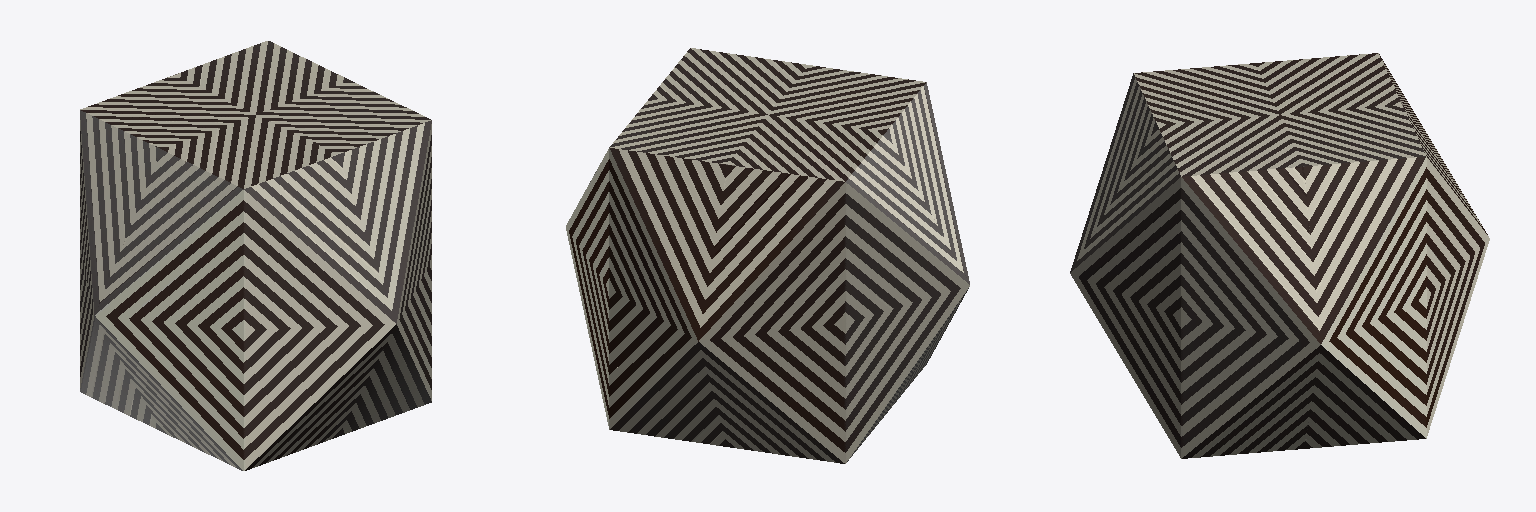
3 renders of one model, left to right at view 1: azimuth 30°, elevation 25°; view 2: azimuth 150°, elevation 25°; view 3: azimuth 270°, elevation 25°, orthographic.
Visible parts, largest first — view 1: solid_001, solid_002; view 2: solid_001, solid_002; view 3: solid_001, solid_002.
Boxes of the visible parts, x1=… form: solid_001: x1=80, y1=41, x2=431, y2=470; solid_002: x1=80, y1=41, x2=431, y2=470; solid_001: x1=566, y1=48, x2=969, y2=463; solid_002: x1=569, y1=48, x2=969, y2=463; solid_001: x1=1070, y1=53, x2=1489, y2=458; solid_002: x1=1070, y1=53, x2=1487, y2=458.
Bounding box in the file's own units: 0.5098 × 0.3778 × 0.5098.
1 materials, 1 textured.